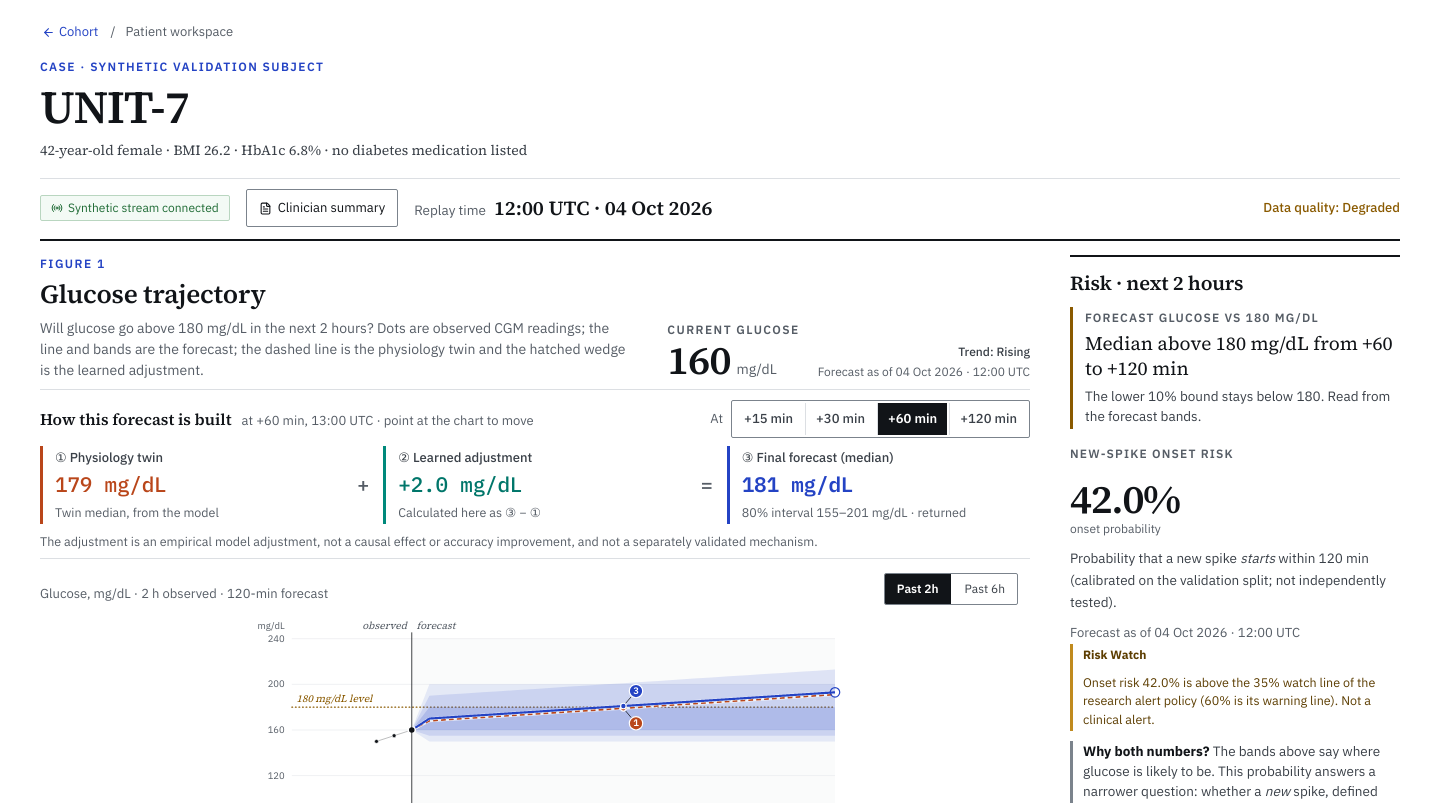
Bilingual patient note › switches the summary note to Hindi with lang="hi" and states it is unreviewed
Click the button with test id "open-report" at (322, 208), box [246,189,398,227]
(page scrolled)
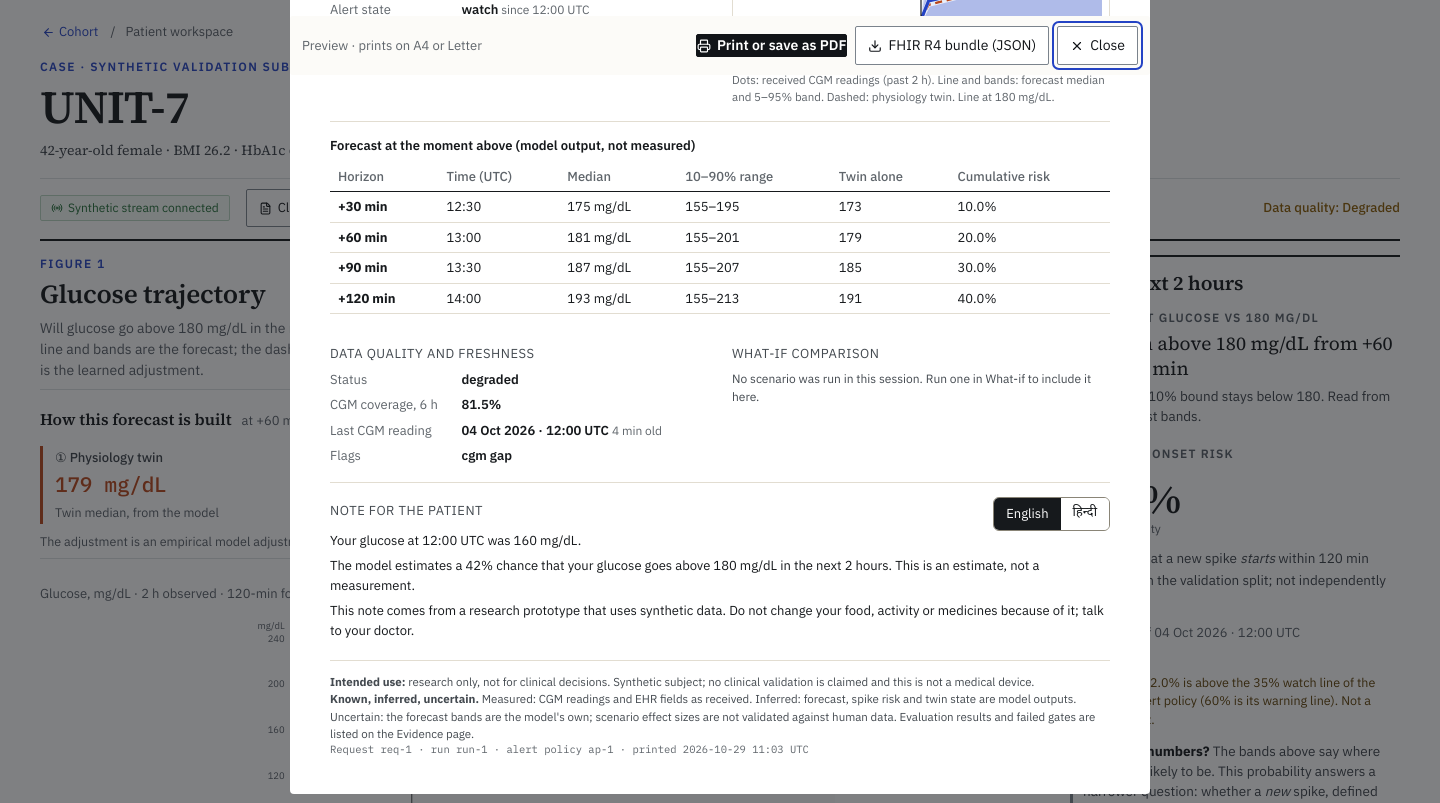
Expected: the element with test id "patient-note" shows "Your glucose at", [330,532,581,548]
Click the button "हिन्दी" at (1085, 514), box [1061,498,1109,530]
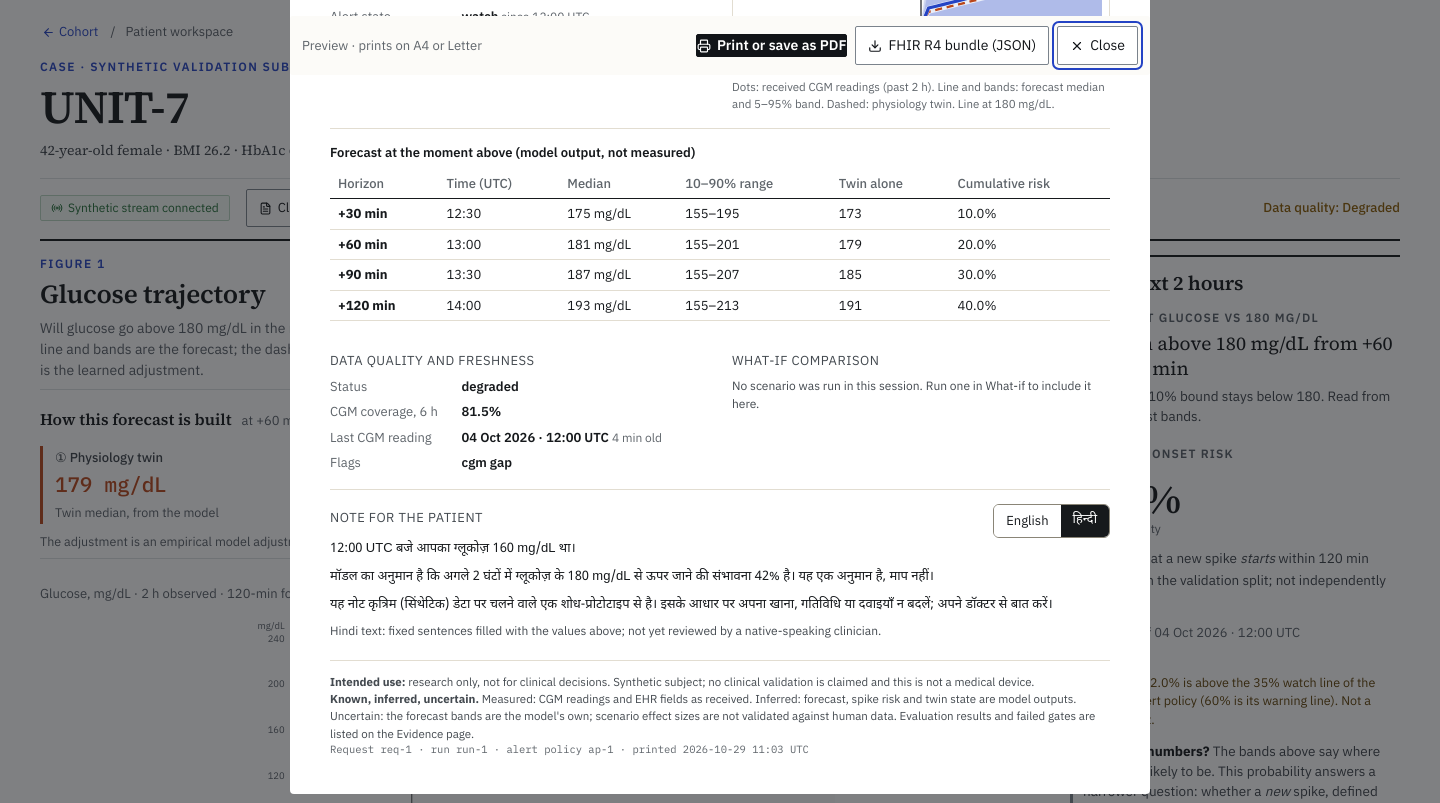
Expected: the element with test id "patient-note" shows "160 mg/dL", [330,540,576,556]
Expected: the element with test id "patient-note" shows "42%", [330,568,934,585]
Expected: the text with test id "hindi-review-note" shows "not yet reviewed", [330,623,881,638]
